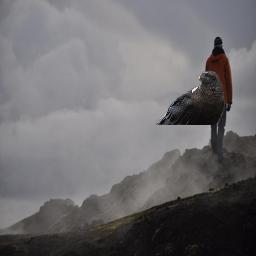Crow: (154, 70, 225, 125)
